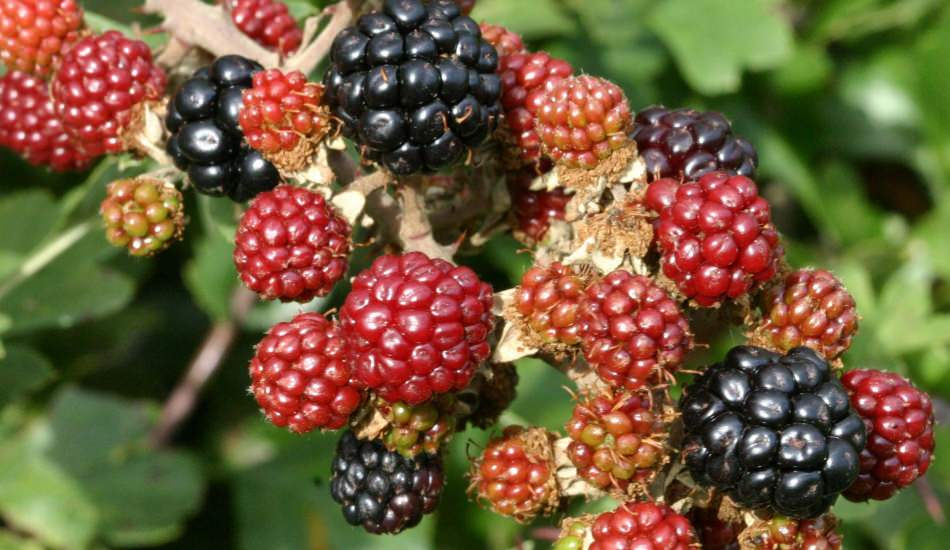Blackberry: (312, 1, 506, 170), (675, 348, 856, 514), (341, 257, 478, 394), (646, 178, 783, 309), (231, 187, 351, 306)
